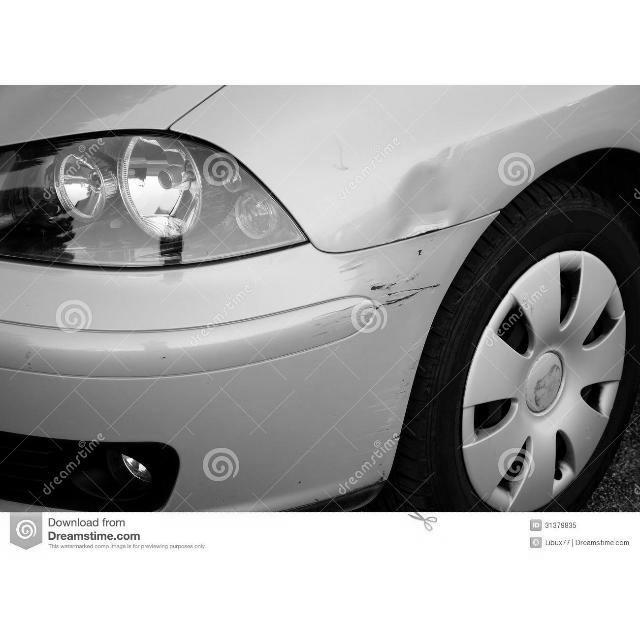fender-dent: (355, 153, 483, 317)
